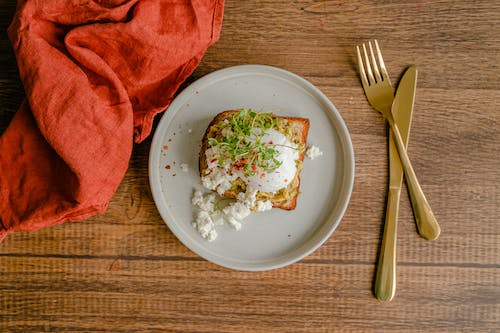knife: (371, 65, 418, 303)
